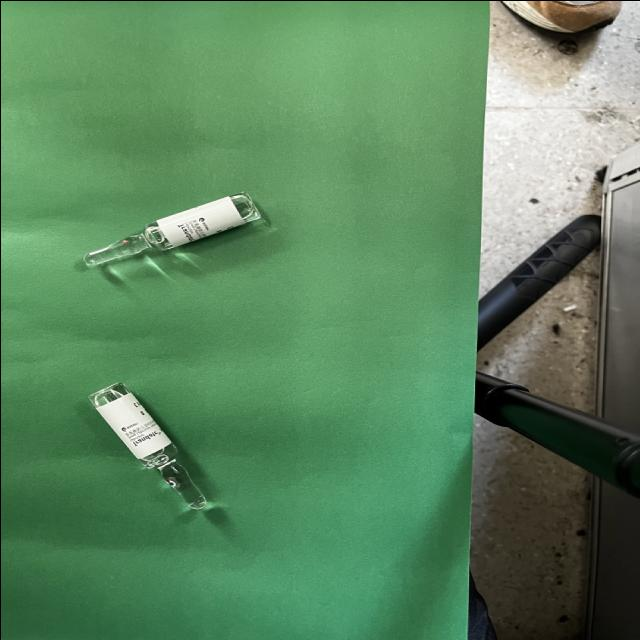Ampoules: (87, 382, 205, 510), (83, 193, 260, 268)
